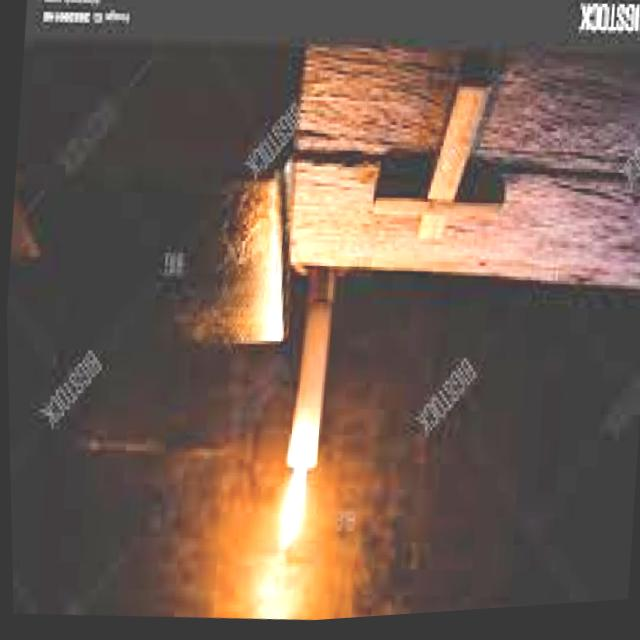helmet: (267, 457, 316, 566)
